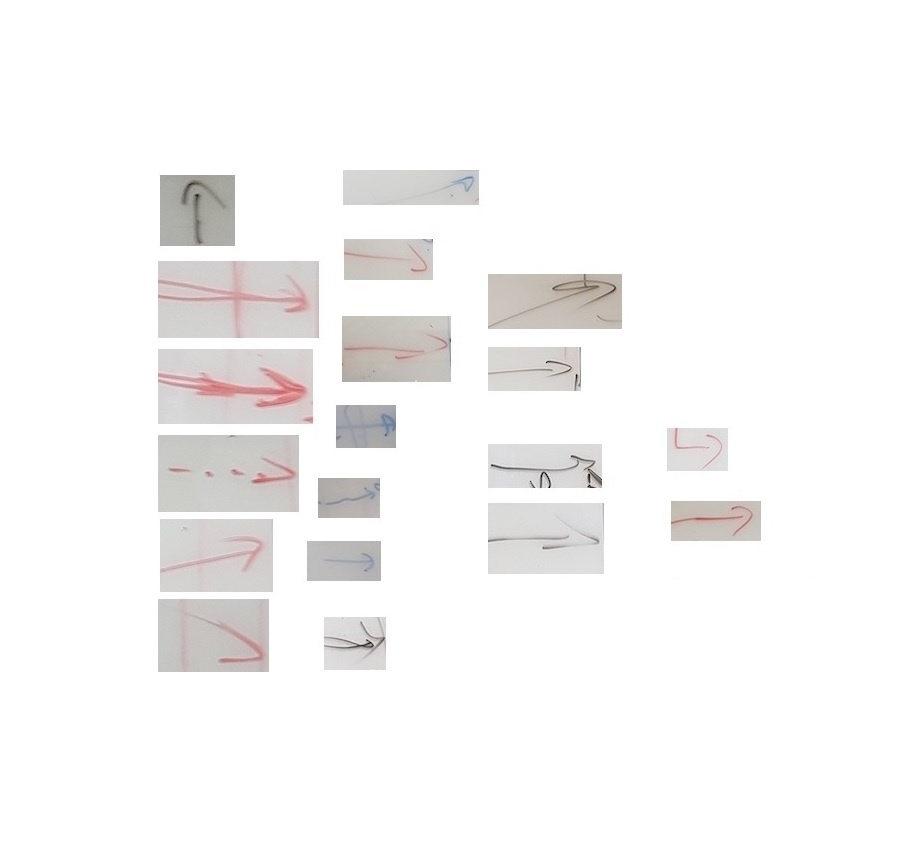arrow: (161, 264, 319, 327), (190, 357, 310, 418), (509, 274, 622, 330), (495, 508, 601, 562), (196, 446, 300, 497), (353, 324, 453, 375), (187, 601, 266, 664), (174, 529, 270, 580), (166, 176, 231, 241), (500, 445, 600, 484), (345, 238, 433, 279), (496, 345, 575, 390), (328, 619, 385, 666), (681, 503, 757, 538), (315, 544, 381, 581), (342, 406, 398, 447), (409, 171, 476, 205), (321, 480, 378, 516), (680, 431, 726, 468)
